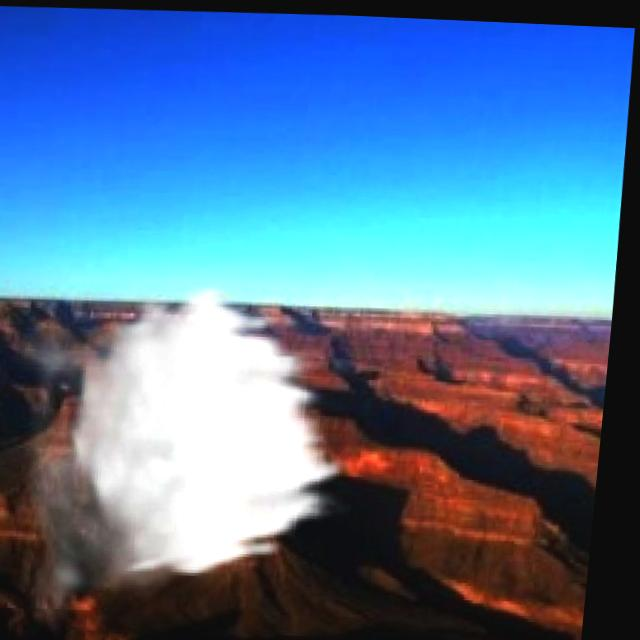no_helmet: (0, 275, 373, 640)
